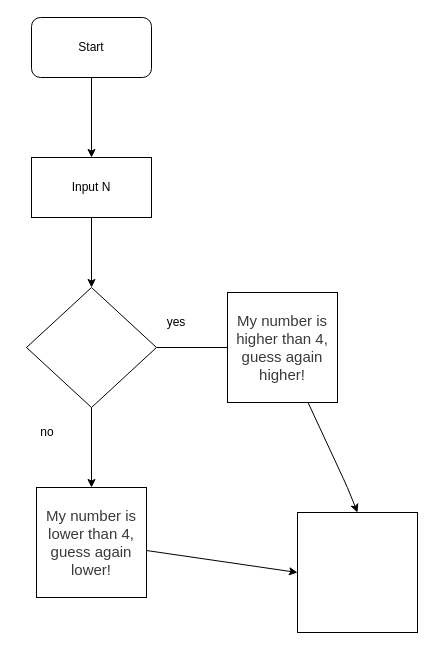
Some shapes in this 435 by 650 pixel diagram are drawn without their labels. Here are the shapes that lost their labels. From the top down, the box of each, then its label:
(26, 286, 156, 408): Is Input higher than 4?
(296, 512, 418, 632): You are correct - the random number is 4
